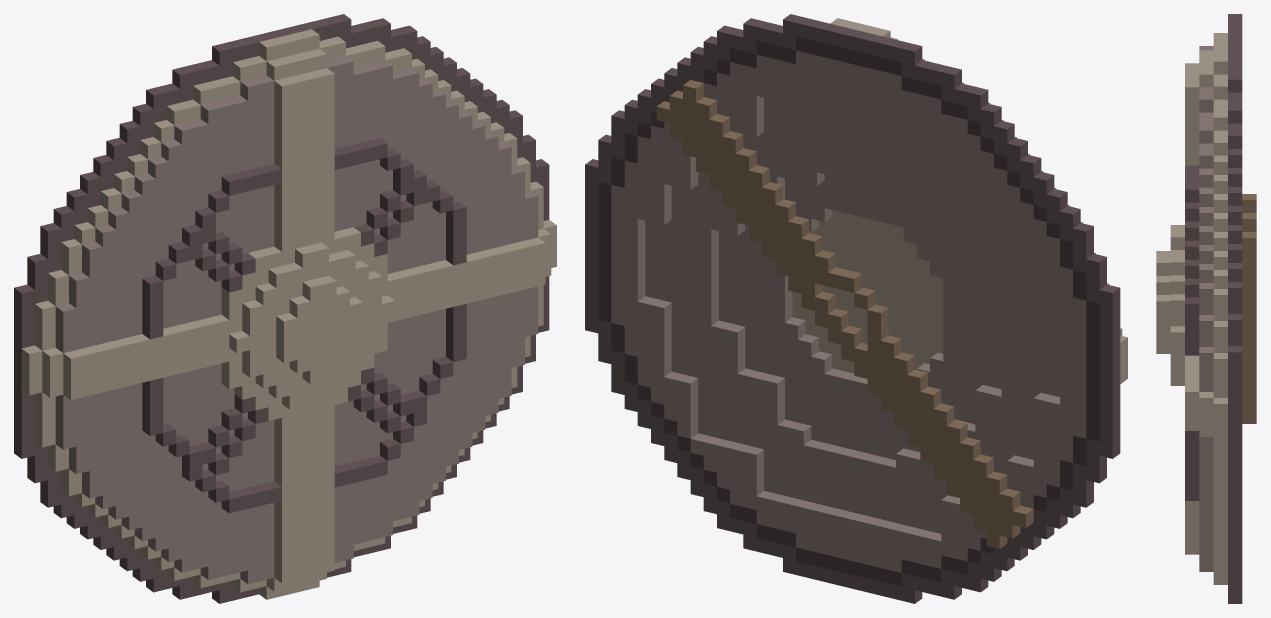
File: VikShield.obj
The picture shows the model from 3 angles, left to right: view 1: azimuth 30°, elevation 25°; view 2: azimuth 150°, elevation 25°; view 3: azimuth 270°, elevation 25°; orthographic projection. The views are drawn at different scales.
Bounding box in the file's own units: 4 × 4 × 0.7.
